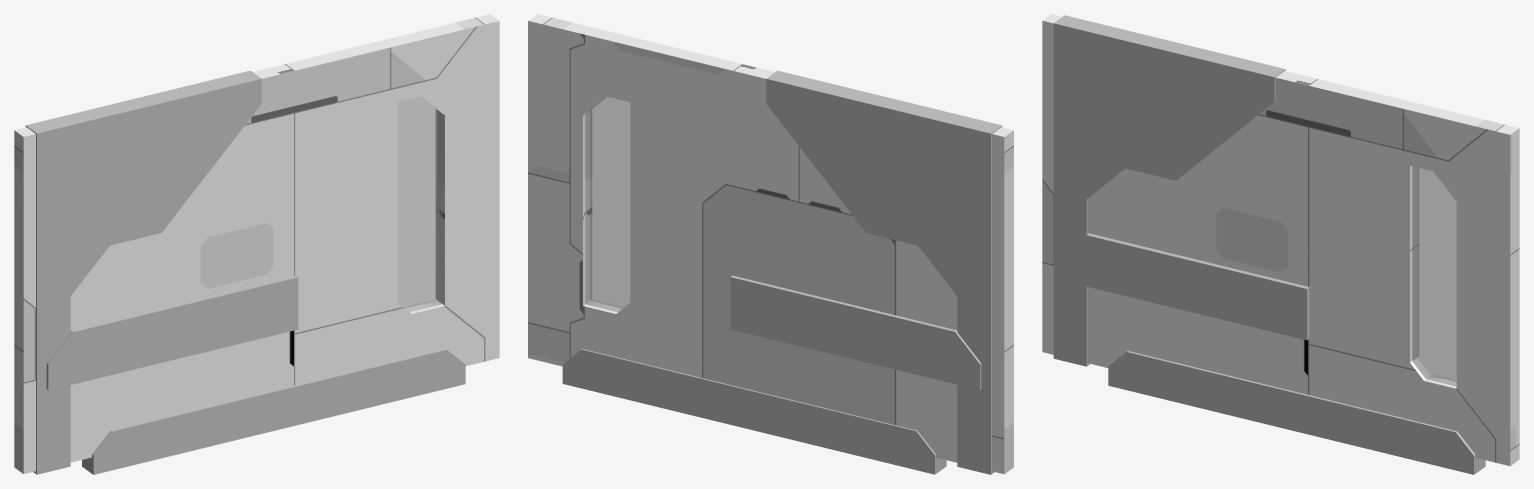
Rendered from SM_Wall_5x3_Door_2.fbx.
The picture shows the model from 3 angles, left to right: view 1: azimuth 30°, elevation 25°; view 2: azimuth 150°, elevation 25°; view 3: azimuth 330°, elevation 25°; orthographic projection.
Visible parts, largest first — view 1: SM_Wall_5x3_Door_2; view 2: SM_Wall_5x3_Door_2; view 3: SM_Wall_5x3_Door_2.
Boxes of the visible parts, x1=… form: SM_Wall_5x3_Door_2: x1=14, y1=14, x2=499, y2=474; SM_Wall_5x3_Door_2: x1=528, y1=14, x2=1013, y2=474; SM_Wall_5x3_Door_2: x1=1042, y1=14, x2=1519, y2=474.
Bounding box in the file's own units: 343 × 244 × 17.68.
